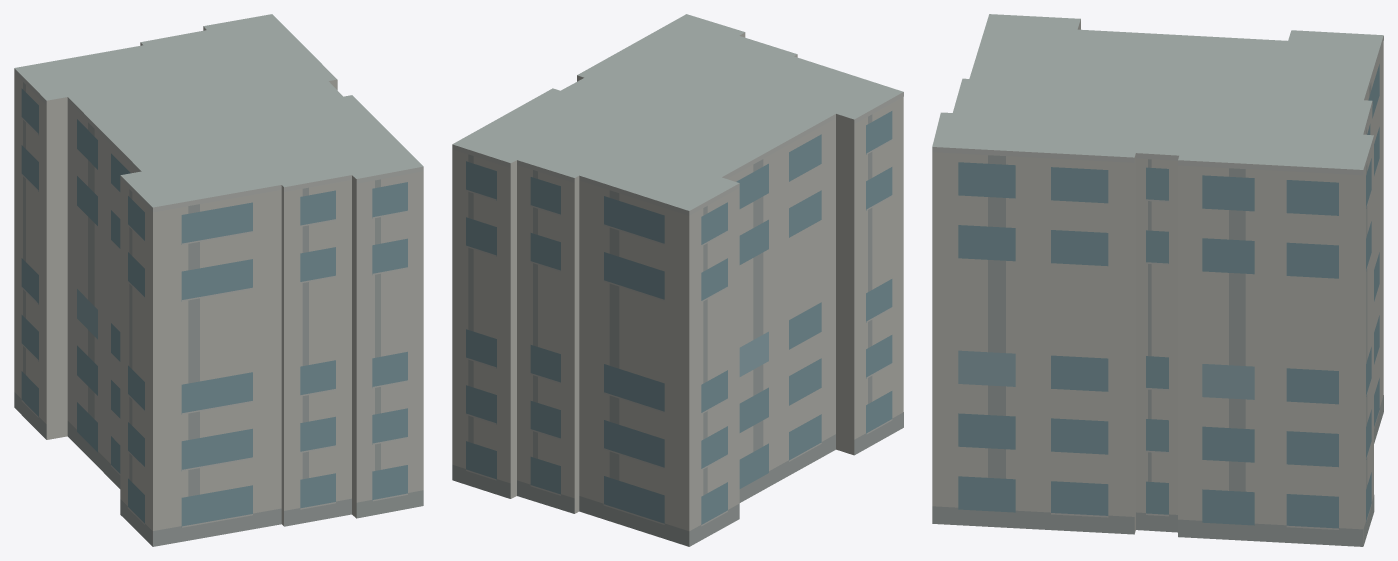
The model's file is survey-upis-32743422.glb.
The picture shows the model from 3 angles, left to right: view 1: azimuth 30°, elevation 25°; view 2: azimuth 150°, elevation 25°; view 3: azimuth 270°, elevation 25°; orthographic projection. The views are drawn at different scales.
Visible parts, largest first — view 1: survey-upis-32743422.tmp; view 2: survey-upis-32743422.tmp; view 3: survey-upis-32743422.tmp.
Part boxes in pixels (bbox=[...]): survey-upis-32743422.tmp: bbox=[14, 14, 423, 546]; survey-upis-32743422.tmp: bbox=[452, 14, 903, 546]; survey-upis-32743422.tmp: bbox=[932, 14, 1383, 546].
Bounding box in the file's own units: 15.19 × 17.1 × 18.58.
